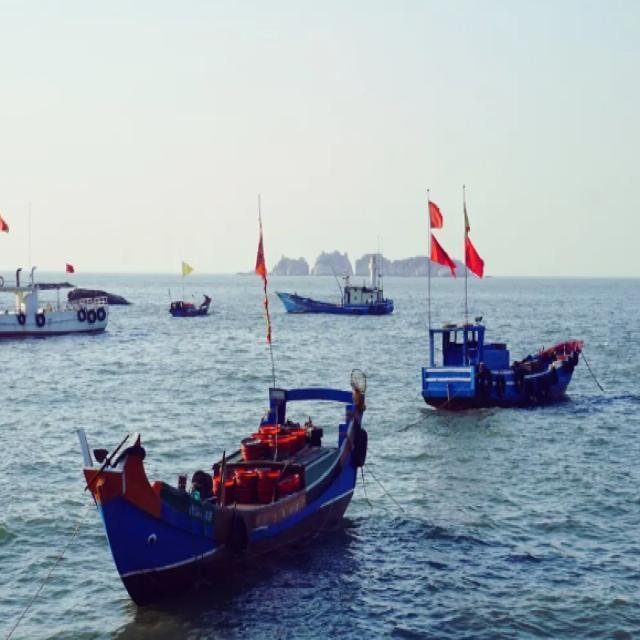fishing boat: (85, 363, 377, 602), (419, 310, 583, 412), (277, 227, 392, 313), (0, 260, 114, 341), (164, 262, 214, 318)
